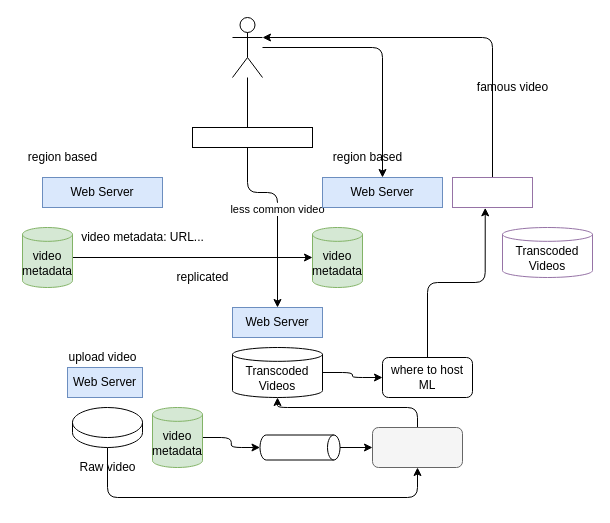
This 610x523 diagram has some shape labels left out. The shapes that lost their labels are listed below. From the top down, each one's centre as x and y in pixels, then its label:
At point (247, 47): "Customer Web Browser".
At point (252, 137): "Load Balancer".
At point (492, 192): "CDN".
At point (299, 447): "queues".
At point (417, 447): "Transcoders".
